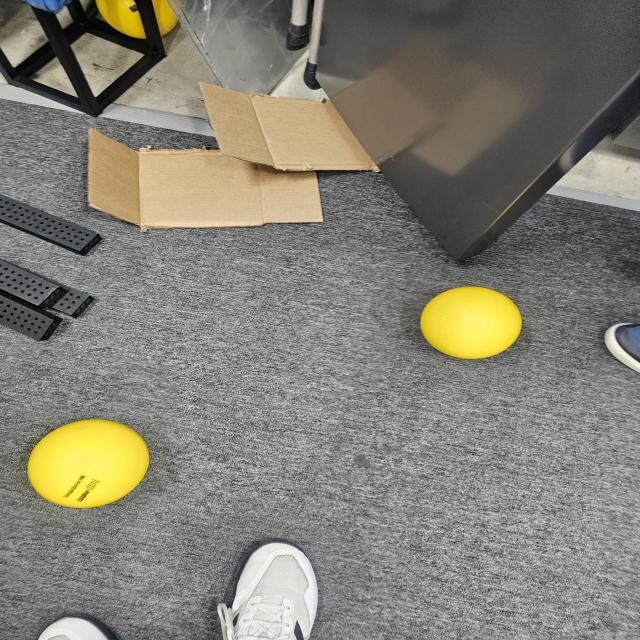Fuel: (18, 413, 154, 513), (415, 283, 529, 363)
